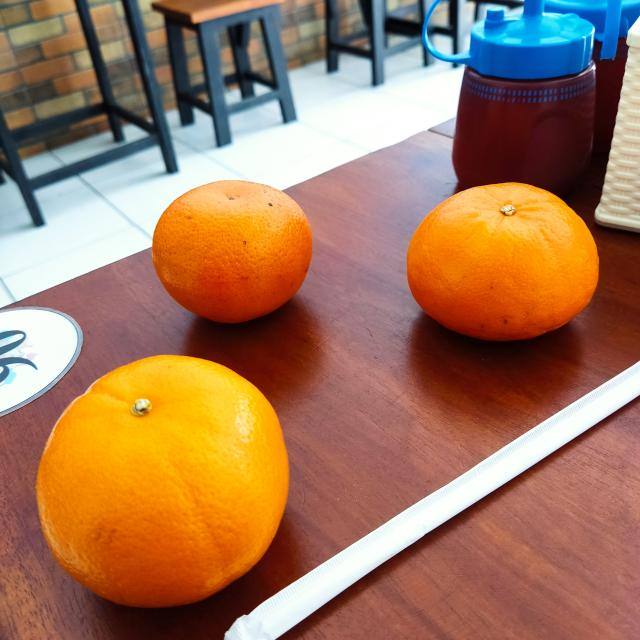orange: (36, 356, 288, 608), (406, 183, 600, 343)
